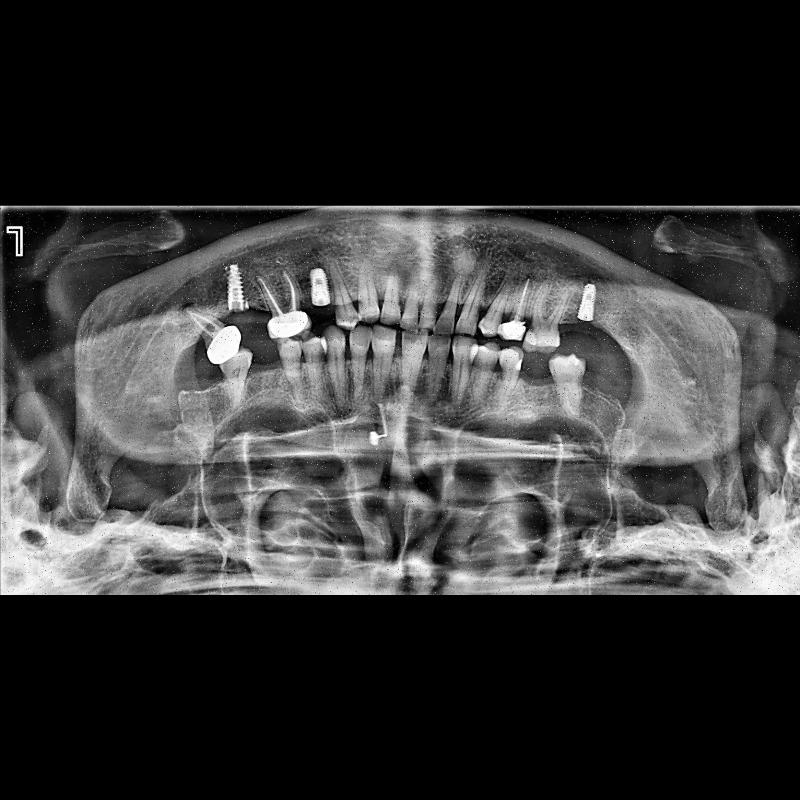NORIS: (220, 262, 252, 312)
